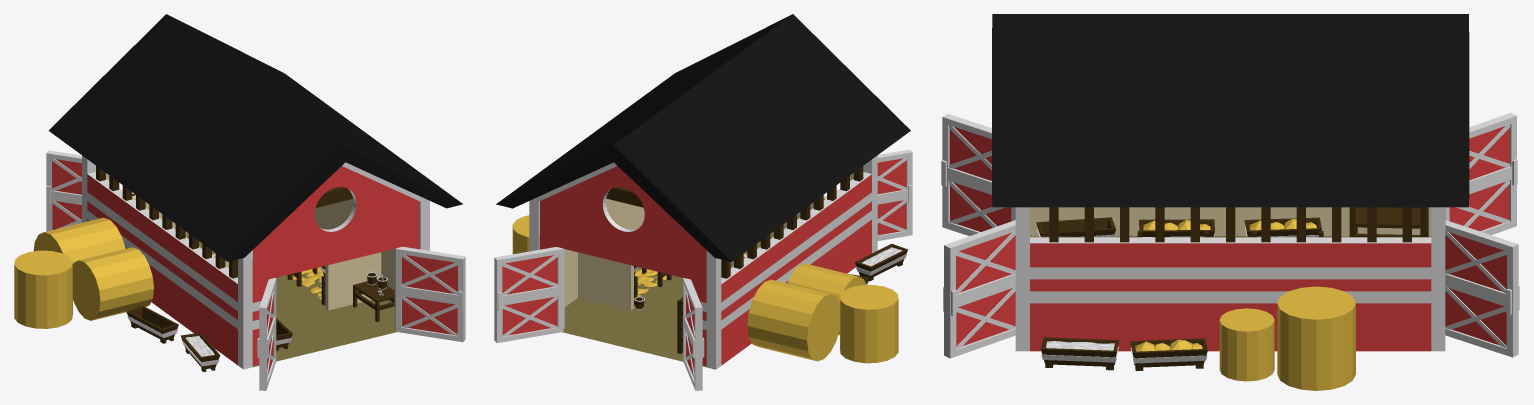
Rendered from barn_removable.fbx.
3 views of the same model, side by side, from view 1: azimuth 30°, elevation 25°; view 2: azimuth 150°, elevation 25°; view 3: azimuth 270°, elevation 25° (orthographic). The views are drawn at different scales.
Visible parts, largest first — view 1: removable.001, ambar, hay_big, gate.003, gate.001, wall.009, gate.002, wall.002, trough_empty, removable, trough_water, table (+2 smaller); view 2: removable.001, ambar, hay_big, gate, gate.002, wall.013, gate.001, wall.002, trough_water, removable, hay_big.002, roof_support (+1 smaller); view 3: removable.001, ambar, gate, gate.003, hay_big.002, gate.002, gate.001, wall.003, hay_big.001, trough_water.001, trough_hay.004, shelves (+3 smaller).
Part boxes in pixels (left/top/right/bottom): removable.001: left=48, top=14, right=462, bottom=288; ambar: left=82, top=170, right=429, bottom=369; hay_big: left=14, top=217, right=153, bottom=328; gate.003: left=396, top=246, right=465, bottom=341; gate.001: left=46, top=150, right=81, bottom=231; wall.009: left=325, top=252, right=381, bottom=310; gate.002: left=257, top=278, right=276, bottom=390; wall.002: left=96, top=166, right=237, bottom=278; trough_empty: left=126, top=306, right=178, bottom=343; removable: left=106, top=173, right=419, bottom=365; trough_water: left=181, top=332, right=220, bottom=371; table: left=353, top=279, right=394, bottom=321; removable.001: left=496, top=14, right=910, bottom=287; ambar: left=529, top=155, right=877, bottom=369; hay_big: left=747, top=263, right=898, bottom=363; gate: left=494, top=247, right=563, bottom=343; gate.002: left=877, top=149, right=912, bottom=240; wall.013: left=578, top=252, right=633, bottom=310; gate.001: left=683, top=278, right=704, bottom=390; wall.002: left=721, top=166, right=863, bottom=278; trough_water: left=855, top=243, right=907, bottom=281; removable: left=539, top=173, right=853, bottom=366; hay_big.002: left=512, top=215, right=529, bottom=254; roof_support: left=606, top=187, right=643, bottom=207; removable.001: left=992, top=14, right=1469, bottom=243; ambar: left=1015, top=207, right=1445, bottom=351; gate: left=1445, top=220, right=1519, bottom=357; gate.003: left=943, top=220, right=1015, bottom=358; hay_big.002: left=1277, top=286, right=1355, bottom=390; gate.002: left=941, top=114, right=1015, bottom=235; gate.001: left=1445, top=113, right=1517, bottom=234; wall.003: left=1049, top=207, right=1411, bottom=242; hay_big.001: left=1219, top=308, right=1274, bottom=381; trough_water.001: left=1041, top=337, right=1119, bottom=370; trough_hay.004: left=1130, top=338, right=1207, bottom=371; shelves: left=1349, top=207, right=1428, bottom=237.
Bounding box in the file's own units: 2376 × 1295 × 2422.
